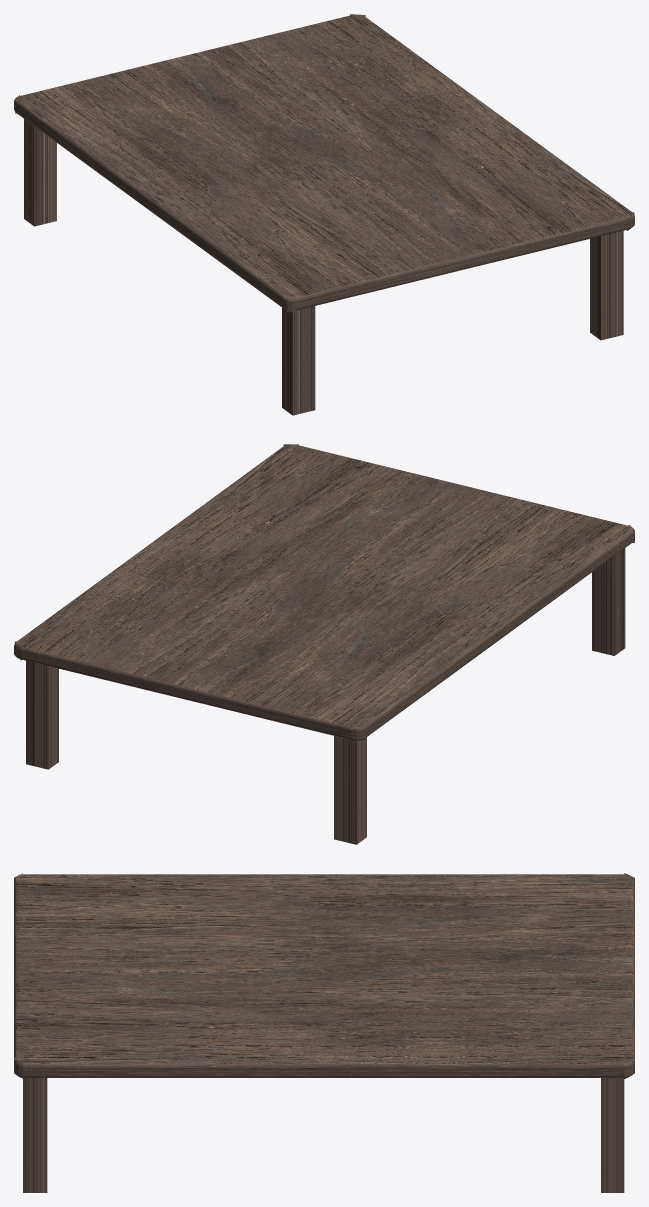
The model's file is table.fbx.
3 renders of one model, top to bottom at view 1: azimuth 30°, elevation 25°; view 2: azimuth 150°, elevation 25°; view 3: azimuth 270°, elevation 25°, orthographic. The views are drawn at different scales.
Parts seen in each view (by area): view 1: Cube; view 2: Cube; view 3: Cube.
Boxes of the visible parts, x1,y1,x2,y2 form: Cube: (14,14,634,415); Cube: (14,444,634,844); Cube: (14,873,634,1192).
Size of the model in its own units: 2007 by 659 by 2754.
